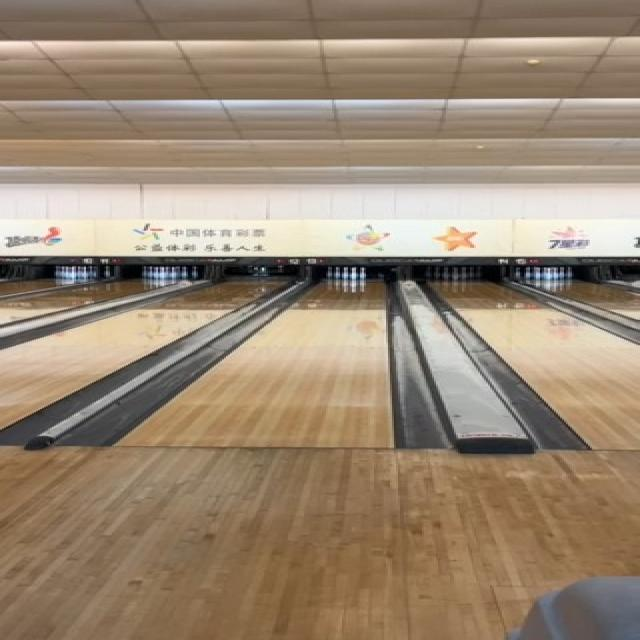alley: (122, 282, 393, 447)
bottle: (327, 266, 366, 279)
